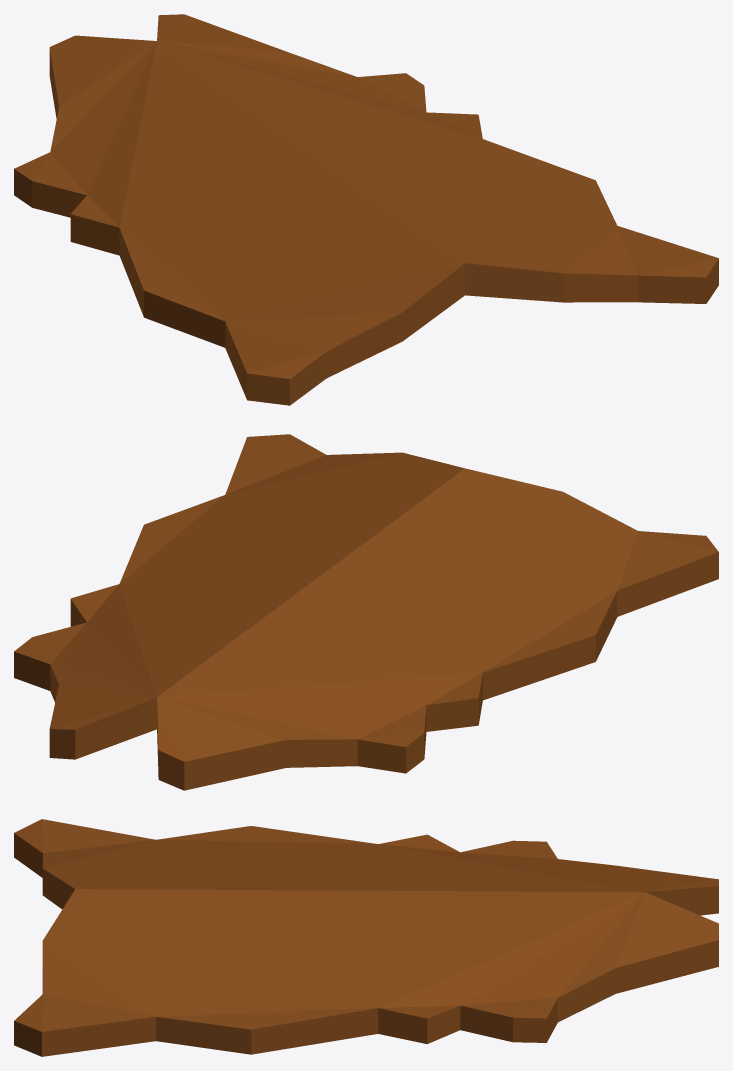
Rendered from pp-AnimalHide.glb.
The picture shows the model from 3 angles, top to bottom: view 1: azimuth 30°, elevation 25°; view 2: azimuth 150°, elevation 25°; view 3: azimuth 270°, elevation 25°; orthographic projection. The views are drawn at different scales.
Visible parts, largest first — view 1: Hide_animal_Cube; view 2: Hide_animal_Cube; view 3: Hide_animal_Cube.
Boxes of the visible parts, x1,y1,x2,y2 form: Hide_animal_Cube: [14, 14, 718, 405]; Hide_animal_Cube: [14, 434, 718, 790]; Hide_animal_Cube: [14, 819, 718, 1056].
Bounding box in the file's own units: 41.79 × 6 × 58.49.
